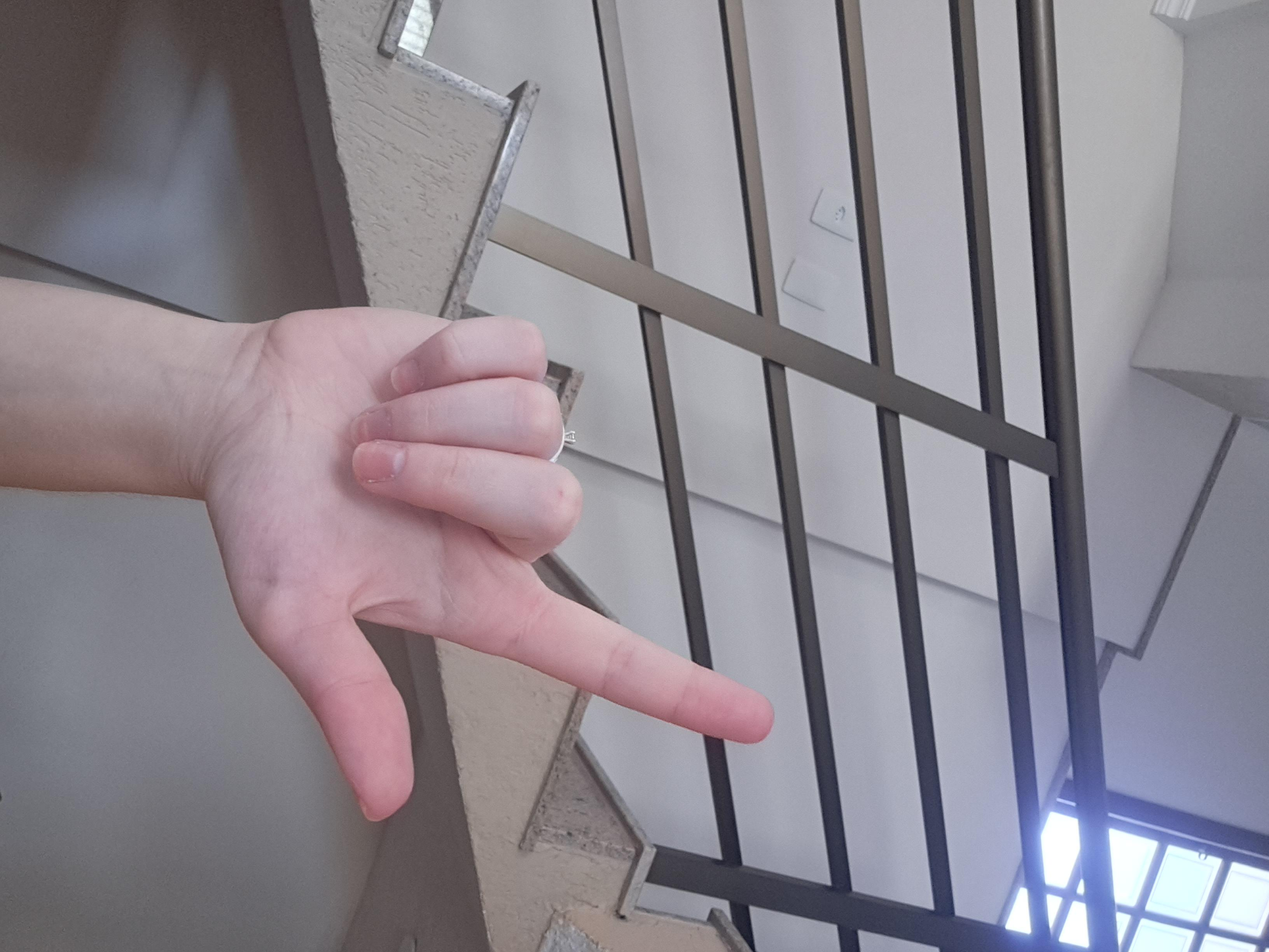L: (384, 356, 1099, 808)
